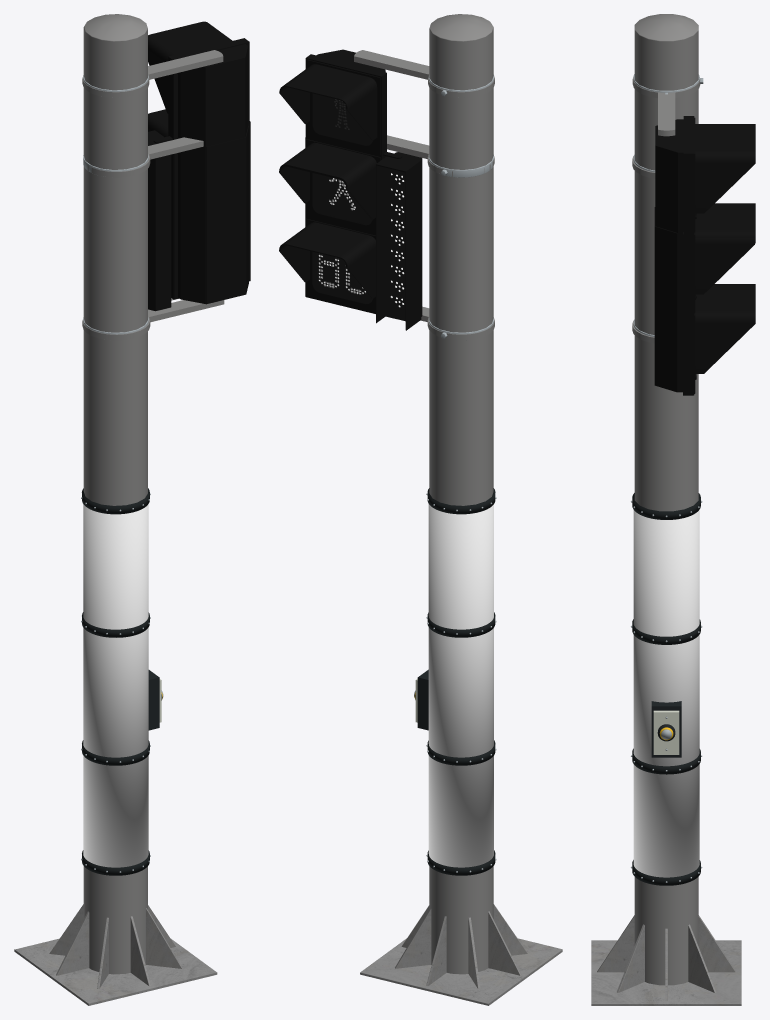
Rendered from PedestrianSignal.fbx.
3 views of the same model, side by side, from view 1: azimuth 30°, elevation 25°; view 2: azimuth 150°, elevation 25°; view 3: azimuth 270°, elevation 25° (orthographic).
Visible parts, largest first — view 1: Pole | Original base and shortened shaft, Guard retaining band 4, Cylinder005.0, Cylinder005.002; view 2: Pole | Original base and shortened shaft, Guard retaining band 4, Cylinder005.0, Cylinder005.002, Off_RedHN, On_GreenHN; view 3: Pole | Original base and shortened shaft, Guard retaining band 4, Cylinder005.002, Cylinder005.0.
Part boxes in pixels (<box>): Pole | Original base and shortened shaft: <box>14,14,217,1005</box>; Guard retaining band 4: <box>81,488,163,875</box>; Cylinder005.0: <box>82,21,249,339</box>; Cylinder005.002: <box>84,121,250,340</box>; Pole | Original base and shortened shaft: <box>360,14,562,1005</box>; Guard retaining band 4: <box>414,488,496,875</box>; Cylinder005.0: <box>279,49,494,340</box>; Cylinder005.002: <box>279,135,494,330</box>; Off_RedHN: <box>312,93,372,145</box>; On_GreenHN: <box>312,173,372,224</box>; Pole | Original base and shortened shaft: <box>591,14,741,1005</box>; Guard retaining band 4: <box>631,493,702,885</box>; Cylinder005.002: <box>632,156,754,395</box>; Cylinder005.0: <box>632,76,755,394</box>.
Size of the model in its own units: 0.9654 by 4.2 by 0.6551.
